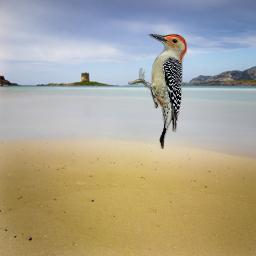Woodpecker: (128, 34, 187, 149)
